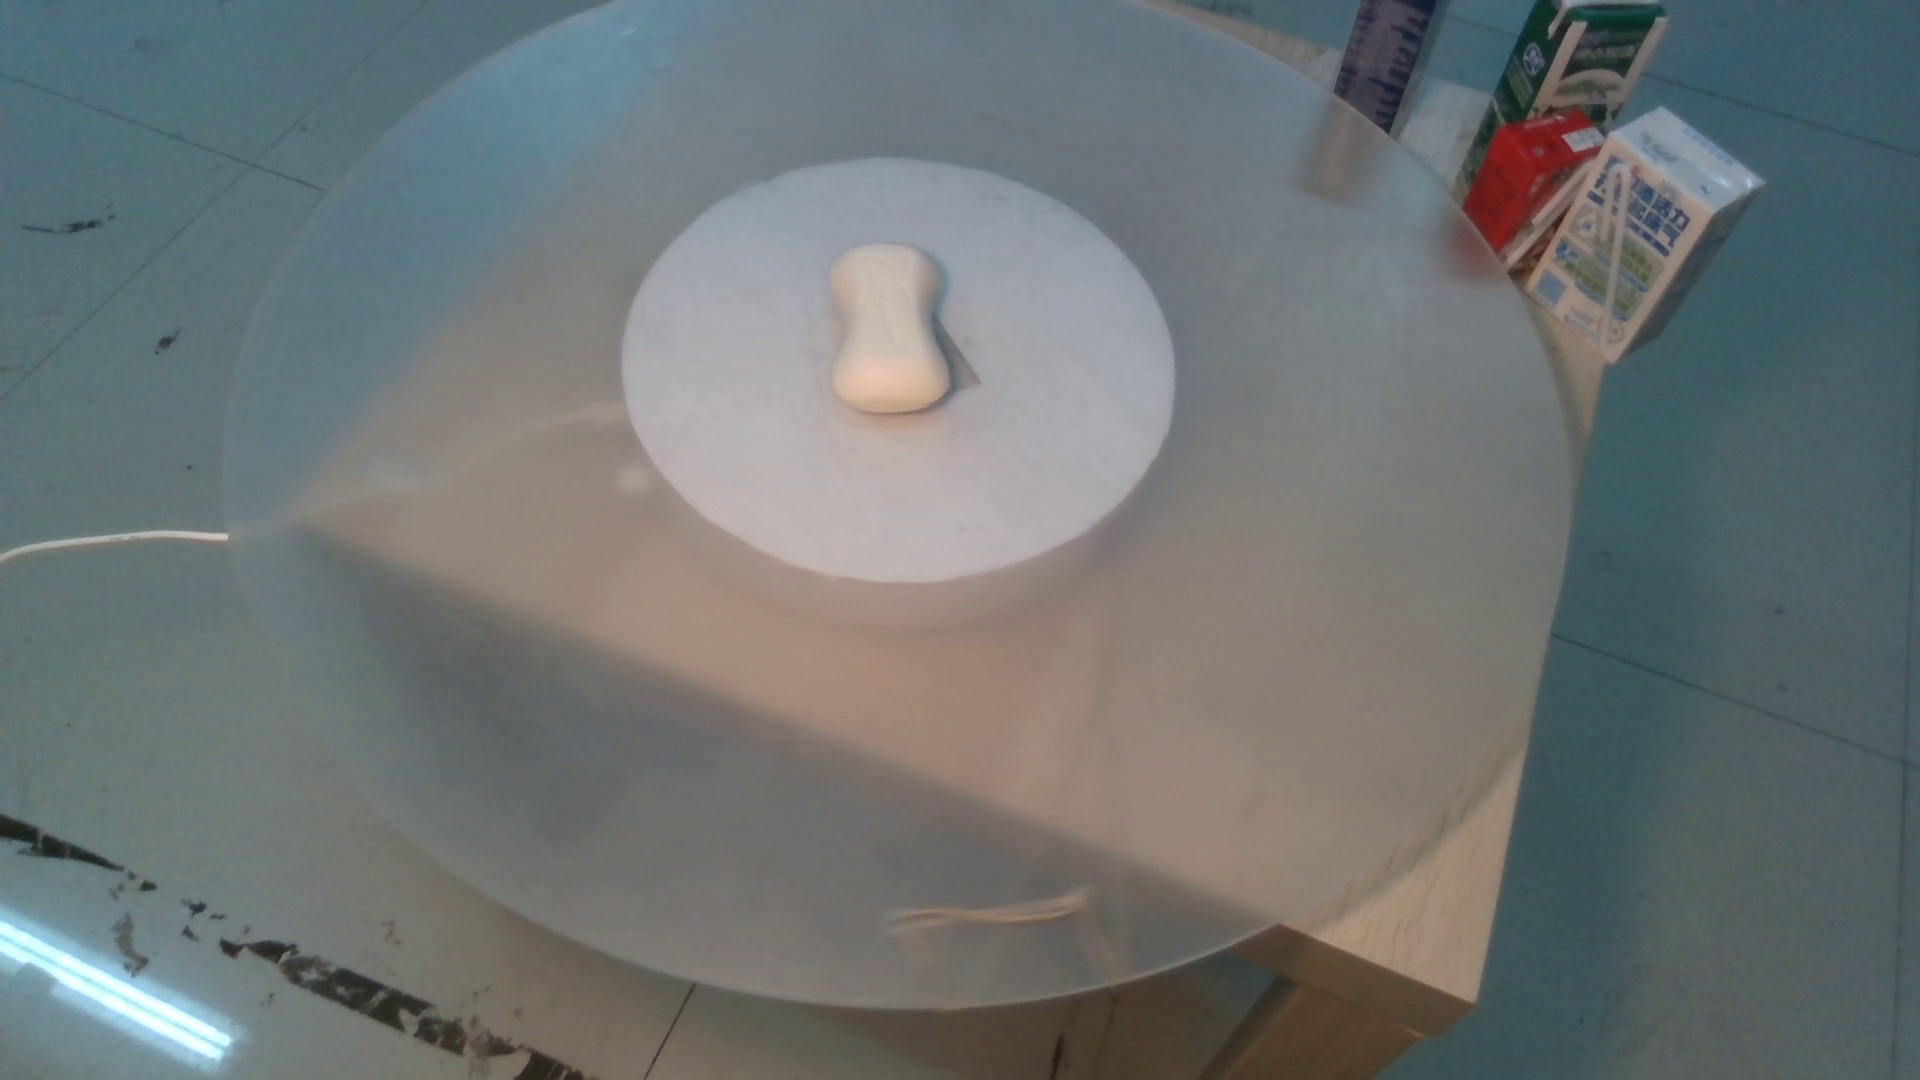CA003_1: (810, 239, 969, 438)
